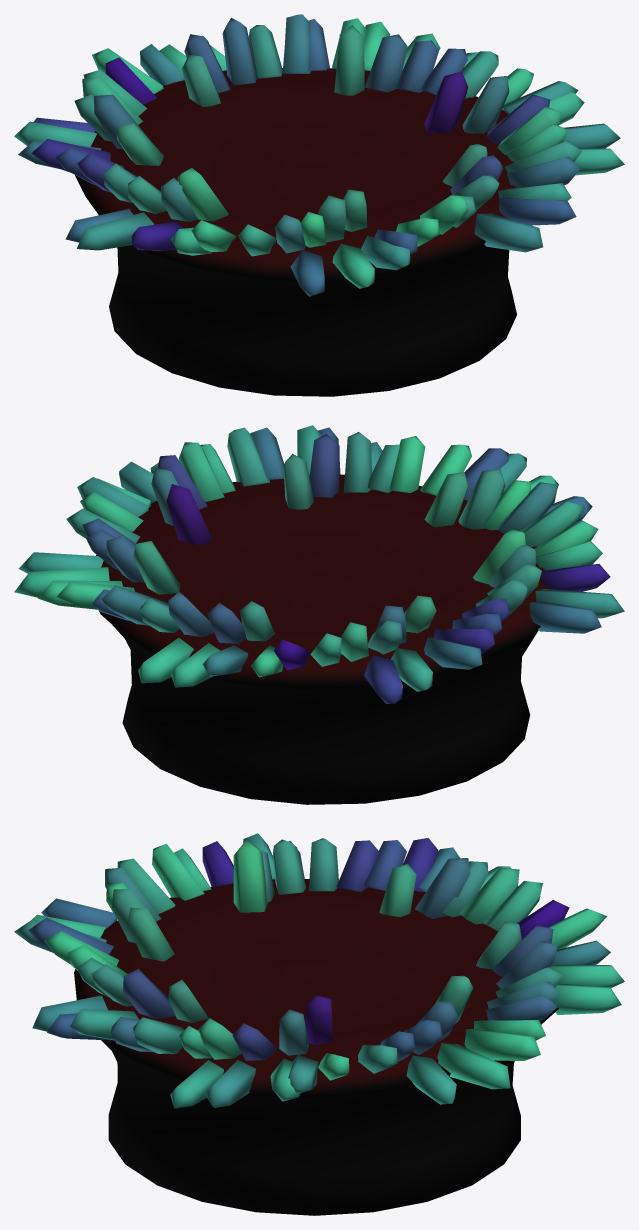
Rendered from anemone_giant_green_game.glb.
3 views of the same model, one above another, from view 1: azimuth 30°, elevation 25°; view 2: azimuth 150°, elevation 25°; view 3: azimuth 270°, elevation 25° (orthographic). The views are drawn at different scales.
Parts seen in each view (by area): view 1: anemone_giant_green_game; view 2: anemone_giant_green_game; view 3: anemone_giant_green_game.
Part boxes in pixels (<box>): anemone_giant_green_game: <box>14,14,624,396</box>; anemone_giant_green_game: <box>14,425,624,804</box>; anemone_giant_green_game: <box>14,833,624,1215</box>.
Bounding box in the file's own units: 0.2316 × 0.0854 × 0.2288.
